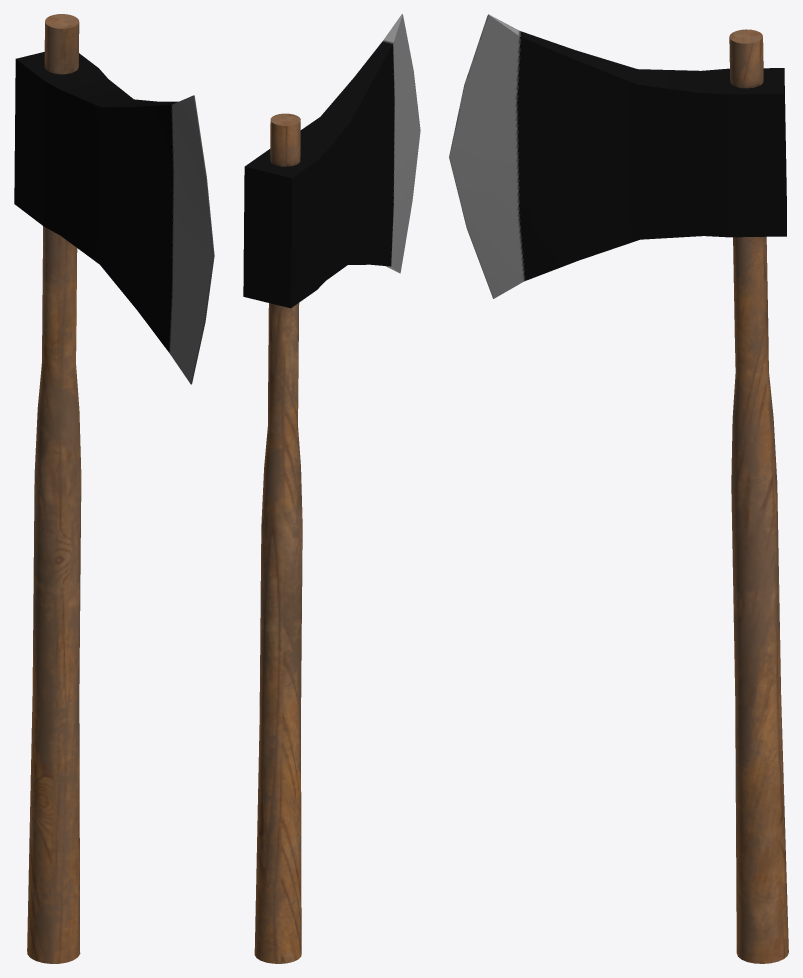
Rendered from Axe.fbx.
3 renders of one model, left to right at view 1: azimuth 30°, elevation 25°; view 2: azimuth 150°, elevation 25°; view 3: azimuth 270°, elevation 25°, orthographic. The views are drawn at different scales.
Visible parts, largest first — view 1: Axe; view 2: Axe; view 3: Axe.
Boxes of the visible parts, box(x1,y1,x2,y2) form: Axe: box(14, 14, 214, 963); Axe: box(243, 14, 420, 963); Axe: box(449, 14, 788, 963).
Size of the model in its own units: 0.3462 by 5.91 by 1.94.
